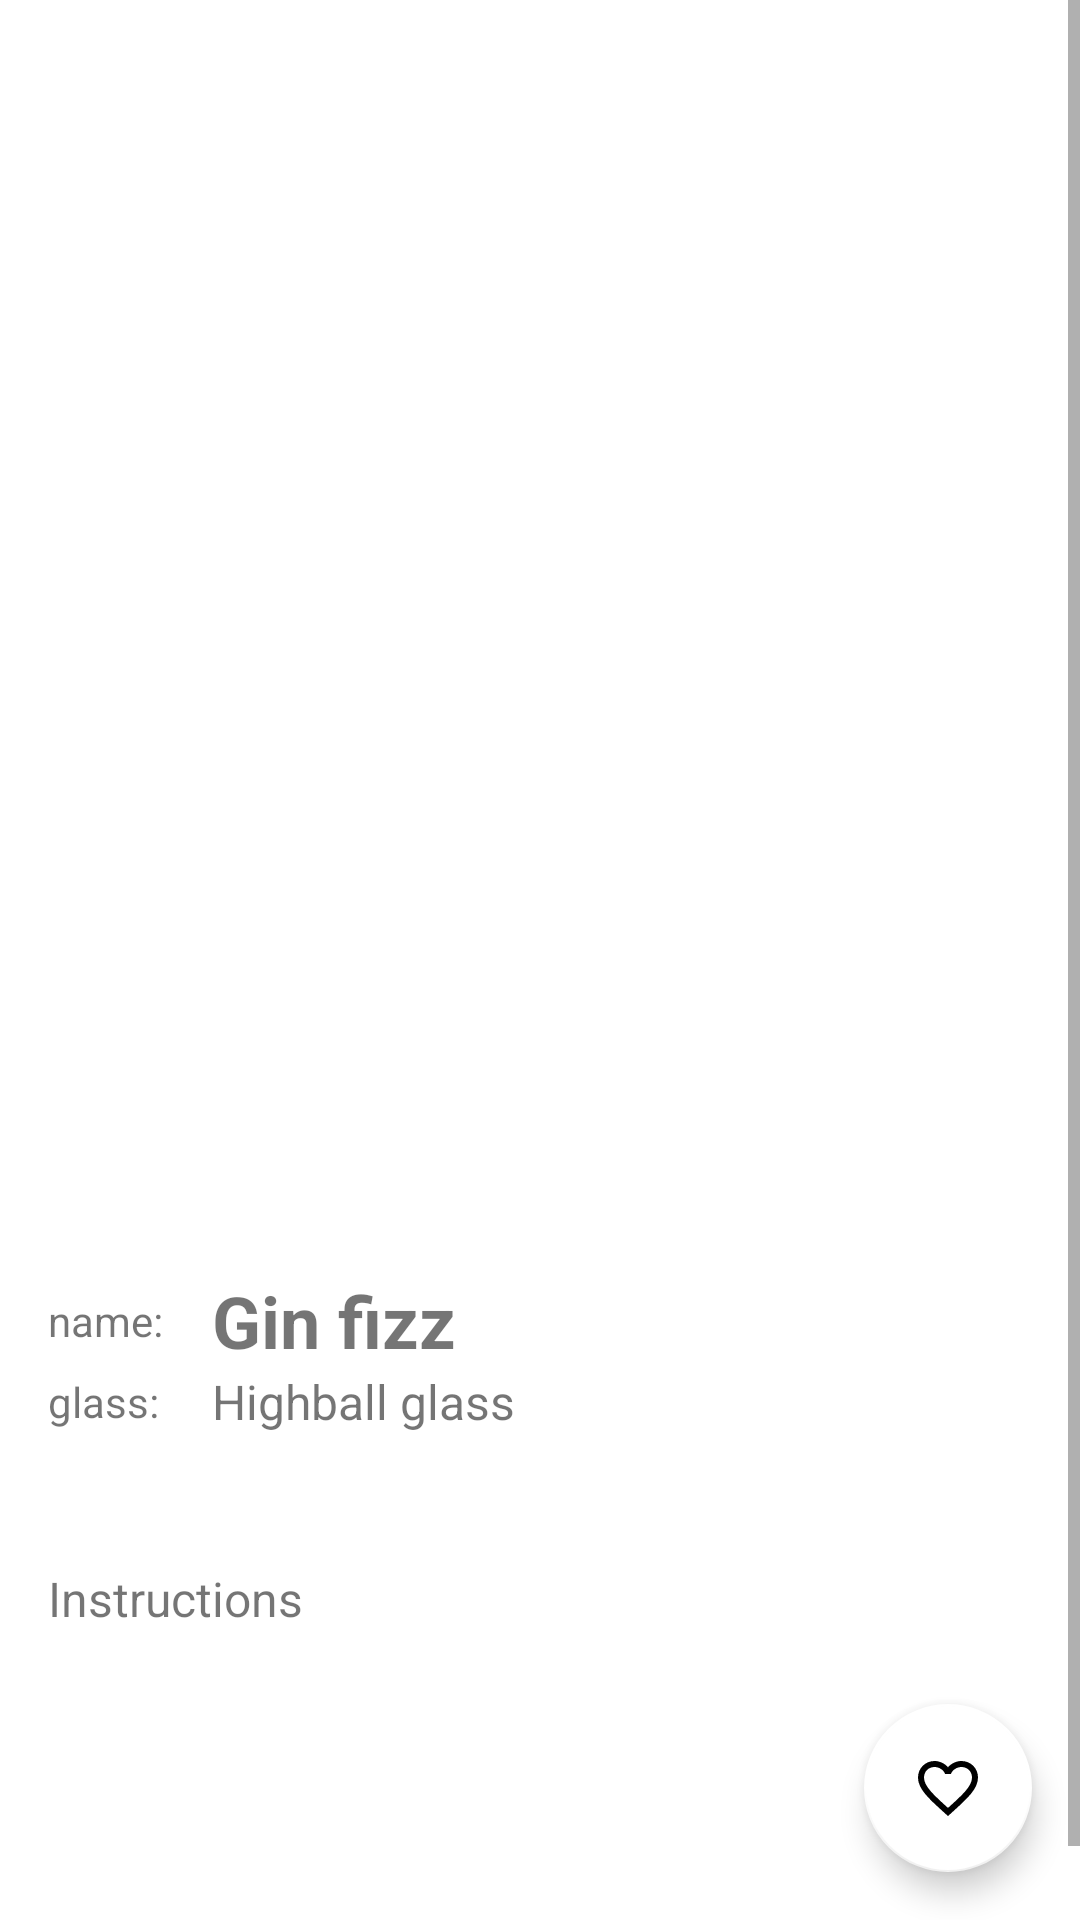

Icon bounding boxes for this 1080 × 1920 phone screenshot, format (x1, y1, x2, y2):
favorite: (869, 1761, 1032, 1872)
